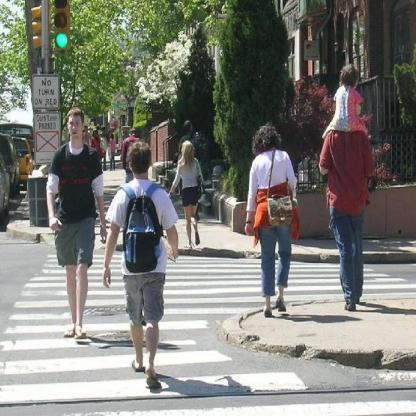person: (105, 139, 184, 393), (42, 105, 107, 347), (241, 124, 303, 319), (171, 140, 205, 243)
